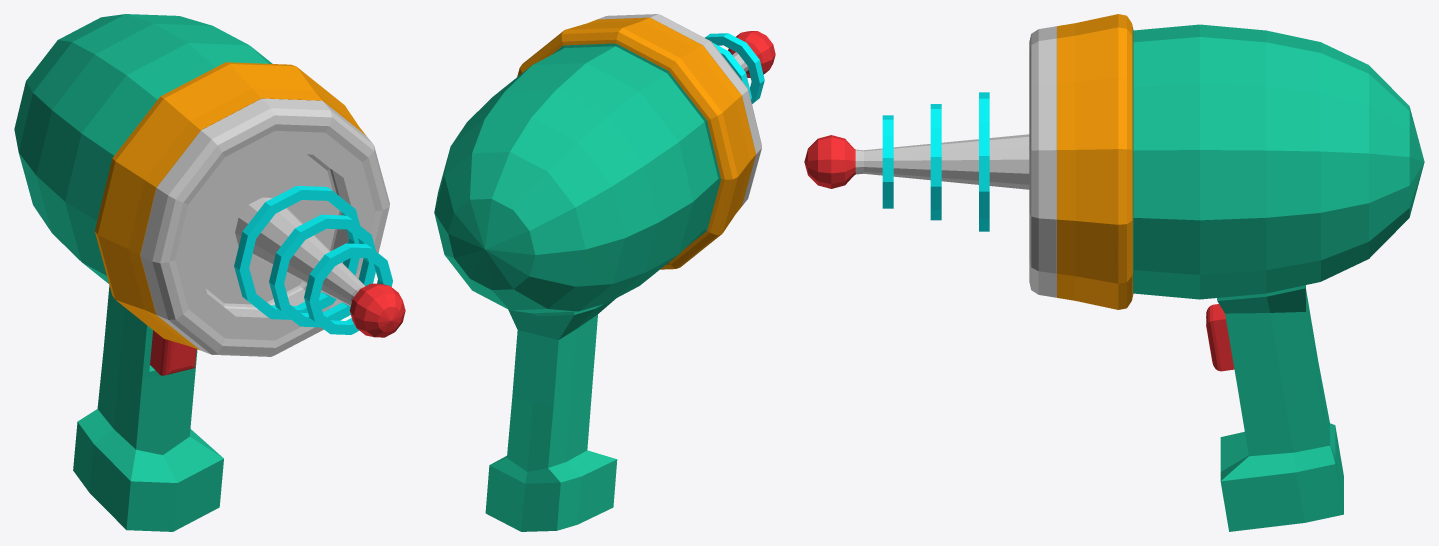
File: portal_gun.fbx
3 renders of one model, left to right at view 1: azimuth 30°, elevation 25°; view 2: azimuth 150°, elevation 25°; view 3: azimuth 270°, elevation 25°, orthographic. The views are drawn at different scales.
Parts seen in each view (by area): view 1: Sphere; view 2: Sphere; view 3: Sphere.
Boxes of the visible parts, left/top/right/bottom form: Sphere: left=14, top=14, right=405, bottom=531; Sphere: left=434, top=14, right=775, bottom=531; Sphere: left=804, top=14, right=1424, bottom=531.
Size of the model in its own units: 265 by 488 by 553.
